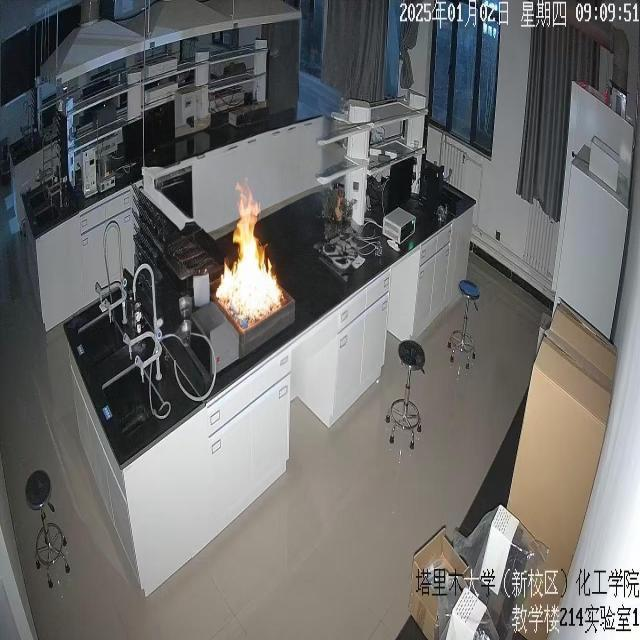smoke: (215, 181, 282, 325)
